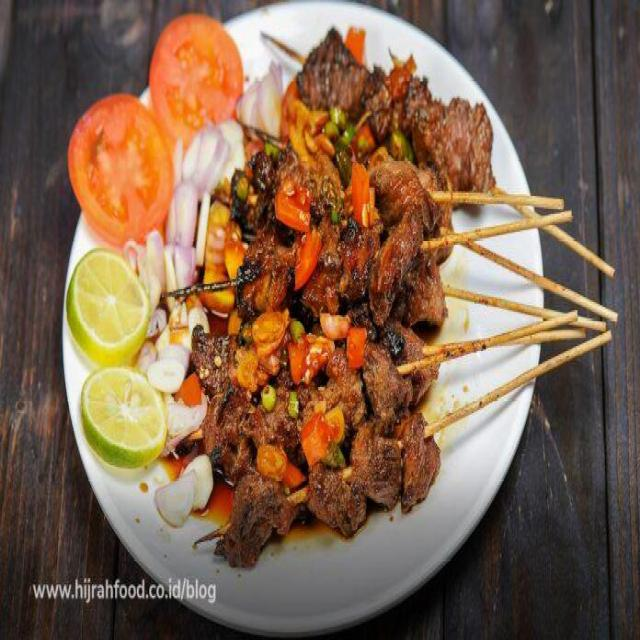Sate: (185, 71, 603, 479)
